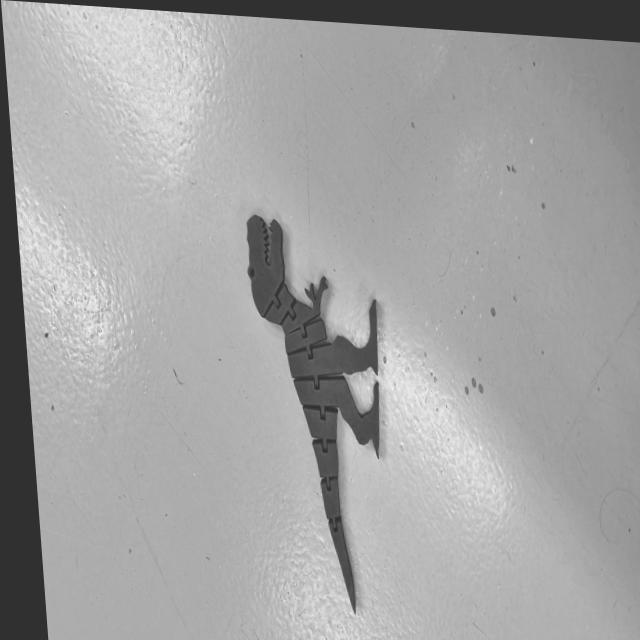dino: (242, 213, 399, 619)
